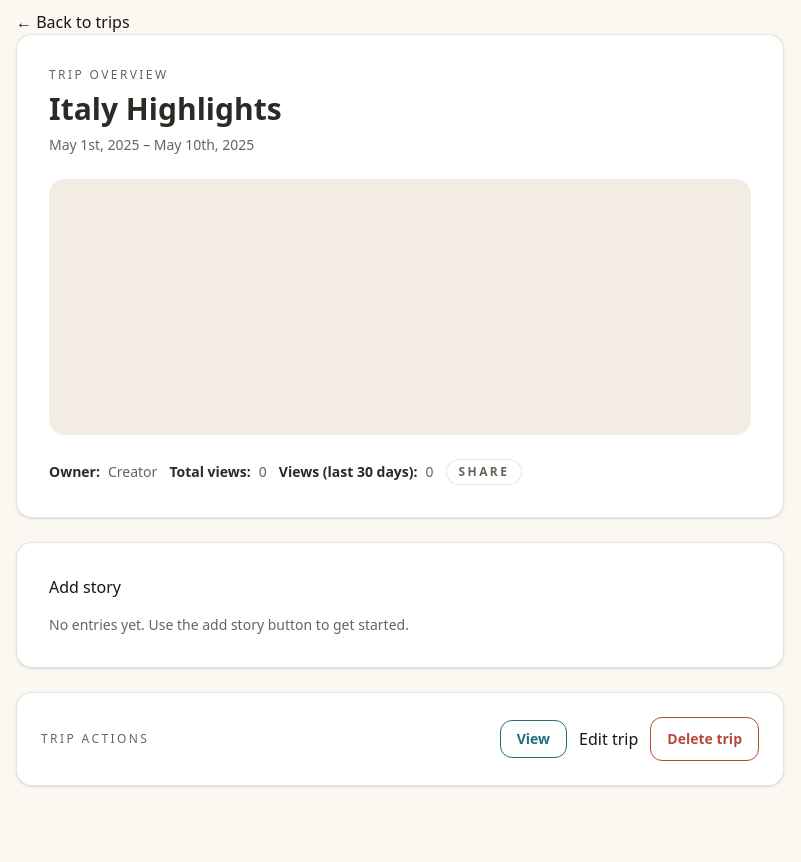
TripDetail share panel › renders share link and copies it
Click the button with aria-label "share trip" at (484, 472), box [446, 459, 522, 485]
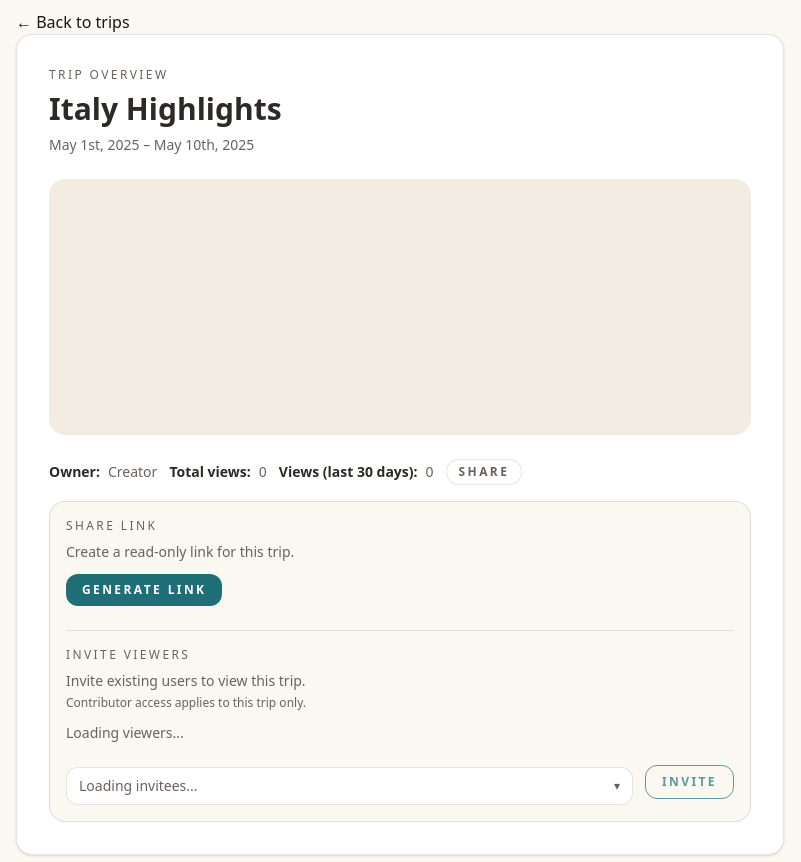
Click the button "Generate link" at (144, 590), box [66, 574, 222, 606]
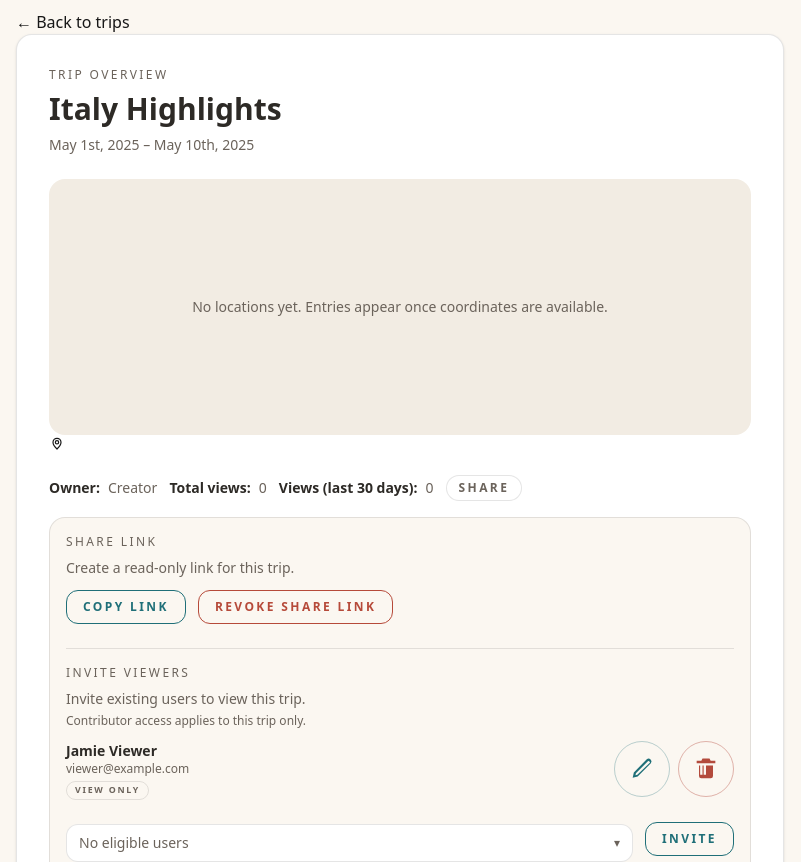
Now the button "Copy link" is shown
Click the button "Copy link" at (126, 607), box [66, 590, 186, 624]
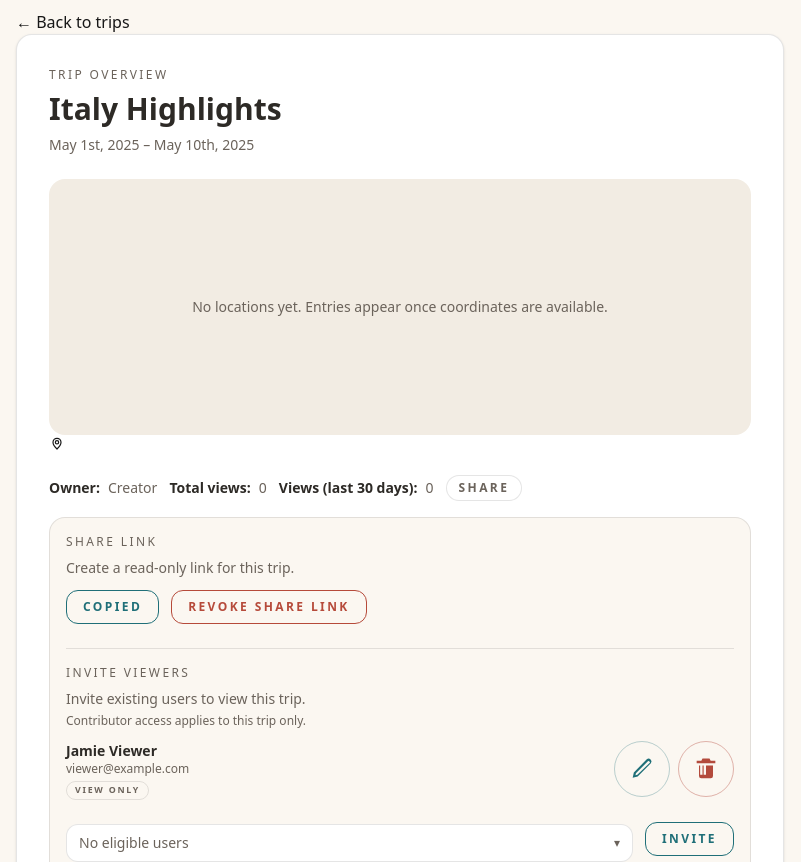
Now the button "Copied" is shown, box [66, 590, 159, 624]
